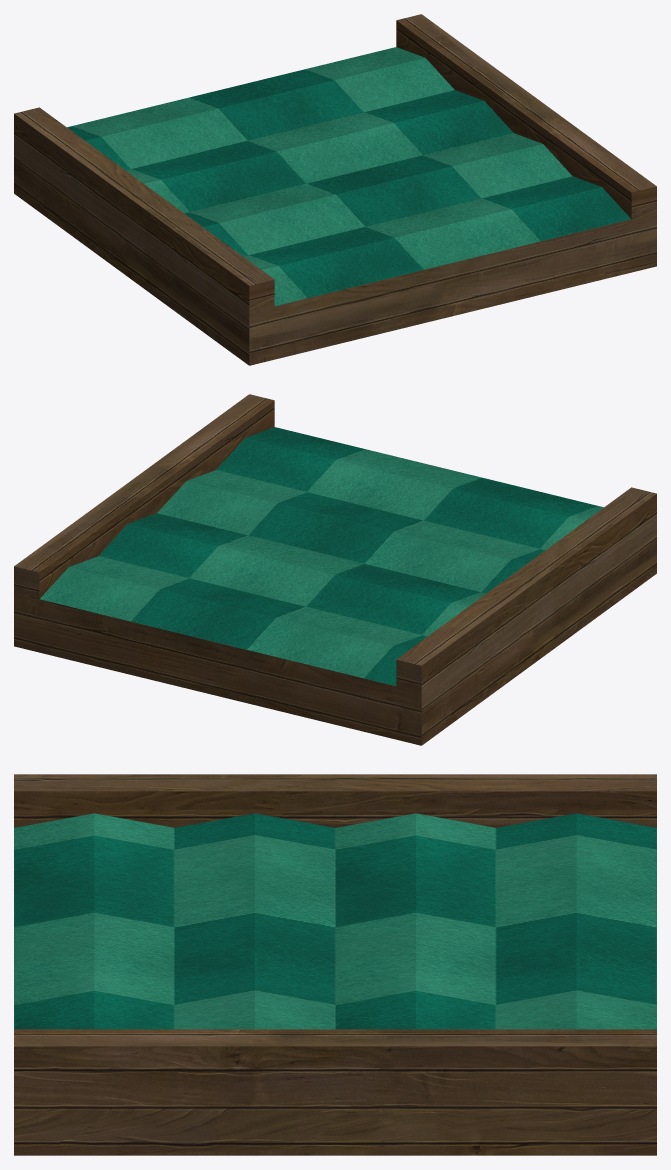
The model's file is PartTeeth.gltf.
3 views of the same model, one above another, from view 1: azimuth 30°, elevation 25°; view 2: azimuth 150°, elevation 25°; view 3: azimuth 270°, elevation 25° (orthographic). The views are drawn at different scales.
Visible parts, largest first — view 1: PartTeeth_grass_glb, PartTeeth_glb; view 2: PartTeeth_grass_glb, PartTeeth_glb; view 3: PartTeeth_grass_glb, PartTeeth_glb.
Boxes of the visible parts, x1,y1,x2,y2 form: PartTeeth_grass_glb: [67, 47, 630, 305]; PartTeeth_glb: [14, 14, 656, 365]; PartTeeth_grass_glb: [40, 427, 603, 685]; PartTeeth_glb: [14, 394, 656, 745]; PartTeeth_grass_glb: [14, 813, 656, 1029]; PartTeeth_glb: [14, 774, 656, 1155].
Size of what is drawn, in the model's own units: 4 by 0.75 by 4.
Materials: 2 (2 with a texture image).
